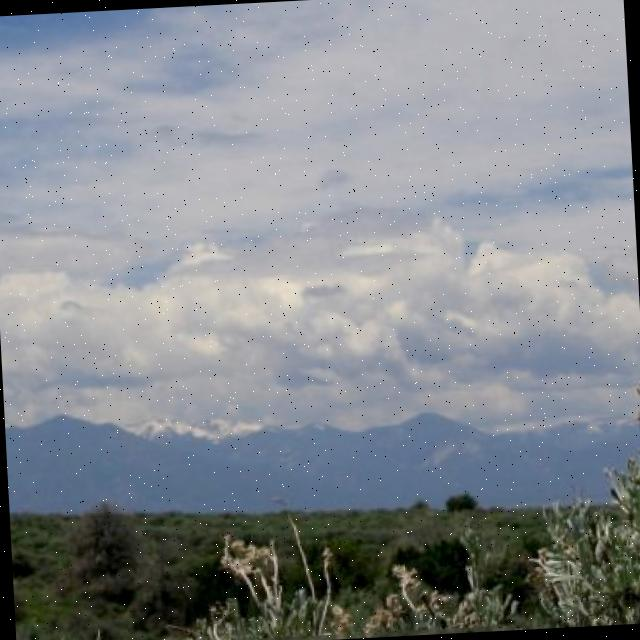Cs: (1, 3, 640, 419)
